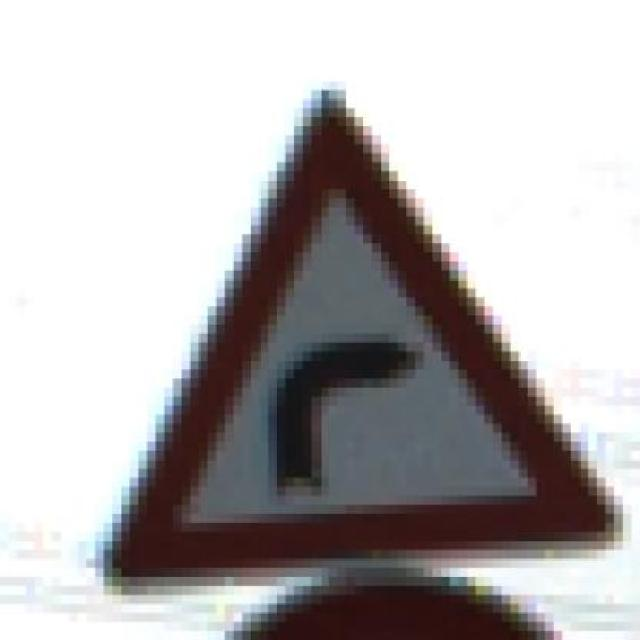Dangerous Rright Curve Ahead: (103, 72, 614, 596)
